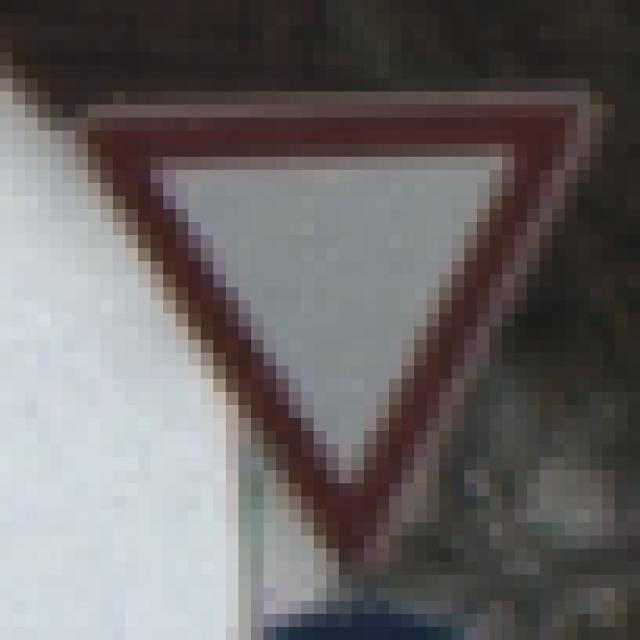Give Way: (64, 79, 578, 576)
